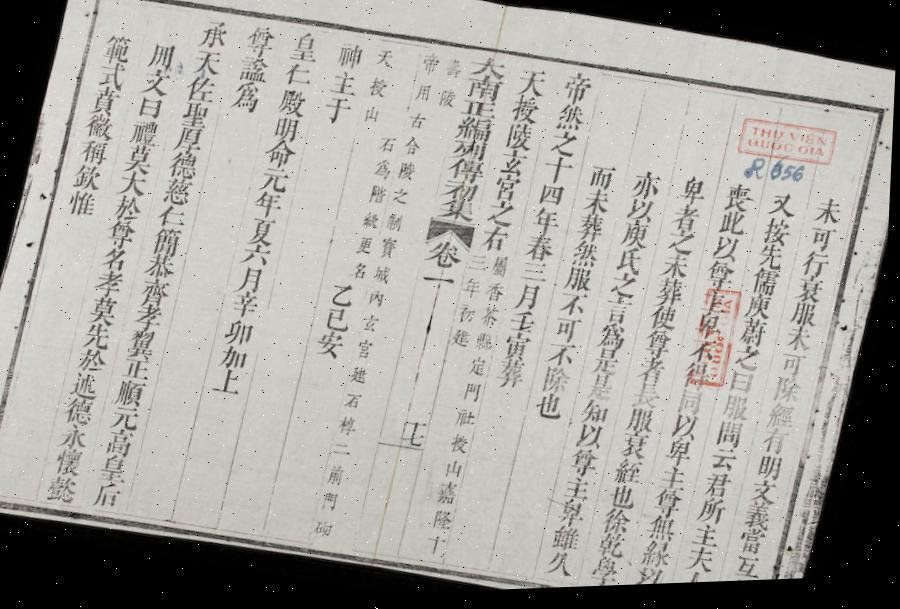c: (424, 239, 469, 276), (240, 22, 280, 60), (194, 16, 234, 54), (768, 160, 812, 194), (453, 116, 498, 149), (286, 29, 324, 68), (445, 157, 489, 190), (462, 76, 507, 108), (628, 170, 668, 206), (120, 142, 160, 178), (124, 326, 164, 362), (559, 72, 596, 110), (228, 80, 266, 117), (98, 29, 136, 66), (721, 184, 760, 220), (53, 444, 93, 479), (46, 472, 87, 506), (91, 59, 132, 93), (233, 54, 274, 88), (651, 490, 692, 524), (466, 56, 512, 86), (811, 198, 849, 234), (568, 449, 606, 485), (86, 292, 124, 328), (103, 217, 142, 252), (158, 176, 198, 210), (164, 149, 204, 183), (136, 276, 176, 310), (692, 314, 732, 348), (86, 84, 126, 118), (653, 279, 691, 314), (274, 87, 312, 122), (114, 376, 152, 411), (514, 68, 552, 103), (703, 263, 741, 298), (80, 320, 119, 354), (669, 205, 706, 240), (144, 38, 182, 72), (98, 452, 136, 486), (150, 226, 188, 260), (262, 139, 300, 173), (613, 459, 651, 493), (522, 235, 560, 269), (137, 66, 175, 100), (171, 124, 209, 158), (64, 394, 102, 428), (546, 552, 584, 586), (181, 74, 220, 107), (188, 47, 227, 80), (688, 340, 728, 372), (676, 176, 712, 211), (744, 504, 781, 538), (501, 123, 538, 157), (507, 96, 544, 130), (698, 498, 735, 532), (496, 361, 533, 395), (591, 557, 628, 591), (70, 368, 107, 402), (104, 426, 141, 460), (642, 332, 679, 366), (69, 161, 107, 194), (256, 166, 294, 199), (647, 516, 685, 549), (602, 299, 640, 332), (590, 350, 628, 383), (540, 367, 578, 400), (74, 136, 113, 168), (80, 112, 119, 144), (642, 542, 681, 574), (437, 199, 480, 228), (114, 170, 154, 201), (614, 248, 650, 282), (760, 220, 796, 254), (574, 214, 610, 248), (224, 317, 260, 351), (246, 216, 282, 250), (558, 500, 594, 534), (738, 530, 775, 563), (800, 253, 837, 286), (766, 193, 803, 226), (626, 409, 663, 442), (318, 96, 355, 129), (64, 187, 101, 220), (127, 117, 164, 150), (552, 526, 589, 559), (772, 379, 809, 412), (715, 423, 752, 456), (620, 434, 658, 466), (686, 548, 724, 580), (57, 422, 96, 453), (502, 334, 537, 368), (418, 271, 462, 298), (212, 367, 248, 400), (553, 104, 589, 137), (534, 394, 570, 427), (331, 42, 367, 75), (541, 157, 577, 190), (619, 222, 655, 255), (529, 208, 566, 240), (749, 272, 786, 304), (251, 191, 288, 223), (76, 345, 114, 376), (143, 252, 181, 283), (110, 193, 148, 224), (108, 404, 146, 435), (448, 141, 493, 167), (440, 181, 483, 208), (236, 264, 270, 298), (665, 440, 700, 473), (660, 254, 696, 286), (722, 396, 758, 428), (738, 322, 774, 354), (564, 268, 600, 300), (546, 342, 582, 374), (783, 329, 819, 361), (604, 509, 640, 541), (766, 405, 802, 437), (794, 280, 830, 312), (580, 400, 616, 432), (94, 268, 130, 300), (636, 359, 672, 391), (682, 364, 718, 396), (478, 226, 514, 258), (458, 100, 502, 126), (154, 202, 192, 232), (744, 296, 779, 328), (580, 190, 615, 222), (570, 242, 605, 274), (326, 70, 361, 102), (315, 331, 350, 363), (230, 290, 265, 322), (756, 456, 791, 488), (93, 480, 129, 511), (597, 325, 633, 356), (484, 201, 520, 232), (648, 308, 684, 339), (496, 151, 532, 182), (704, 474, 740, 505), (280, 61, 316, 92), (760, 432, 796, 463), (121, 354, 158, 384), (514, 284, 548, 316), (733, 348, 767, 380), (717, 213, 752, 244), (552, 318, 587, 349), (576, 425, 611, 456), (608, 274, 643, 305), (586, 376, 621, 407), (750, 482, 786, 512), (132, 303, 168, 333), (625, 199, 661, 229), (178, 100, 214, 130), (598, 535, 634, 565), (563, 476, 599, 506), (492, 176, 525, 208), (671, 416, 705, 447), (711, 238, 745, 269), (548, 132, 582, 163), (586, 165, 620, 196), (557, 294, 592, 324), (756, 247, 791, 277), (269, 116, 304, 146), (609, 485, 644, 515), (710, 450, 745, 480), (218, 345, 254, 374), (660, 468, 696, 497), (693, 526, 729, 555), (664, 233, 700, 262), (239, 243, 276, 271), (101, 245, 135, 275), (677, 391, 711, 421), (134, 92, 168, 122), (806, 230, 840, 260), (632, 385, 667, 414), (778, 356, 813, 385), (790, 305, 825, 334), (734, 558, 770, 586), (699, 293, 735, 321), (738, 158, 771, 188), (330, 282, 362, 312), (436, 480, 466, 512), (324, 306, 356, 336), (536, 184, 569, 213), (508, 312, 542, 340), (519, 262, 553, 289), (729, 373, 760, 402), (636, 567, 674, 590), (454, 408, 483, 436), (432, 508, 460, 536), (371, 47, 399, 74), (483, 282, 510, 310), (449, 433, 476, 461), (467, 356, 494, 384), (425, 534, 454, 560), (479, 306, 505, 335), (378, 237, 404, 266), (360, 312, 386, 340), (354, 338, 380, 366), (395, 160, 421, 188), (400, 136, 426, 164), (417, 54, 443, 82), (337, 414, 364, 440), (370, 158, 396, 185), (366, 77, 392, 104), (462, 382, 488, 409), (348, 364, 374, 390), (372, 265, 398, 291), (444, 458, 470, 484), (328, 463, 353, 490), (354, 236, 380, 261), (314, 518, 340, 543), (348, 260, 373, 286), (456, 304, 481, 330), (463, 278, 487, 305), (491, 256, 514, 284), (321, 490, 346, 515), (366, 185, 391, 210), (384, 213, 409, 238), (442, 58, 466, 84), (412, 84, 436, 110), (436, 89, 460, 115), (376, 134, 400, 160), (344, 391, 368, 416), (468, 254, 493, 278), (475, 333, 499, 358), (406, 112, 430, 137), (681, 572, 718, 588), (366, 290, 390, 314), (452, 329, 476, 353), (361, 105, 385, 129), (390, 188, 414, 212), (334, 439, 358, 462), (360, 212, 384, 235), (405, 433, 430, 452), (408, 422, 432, 439)
